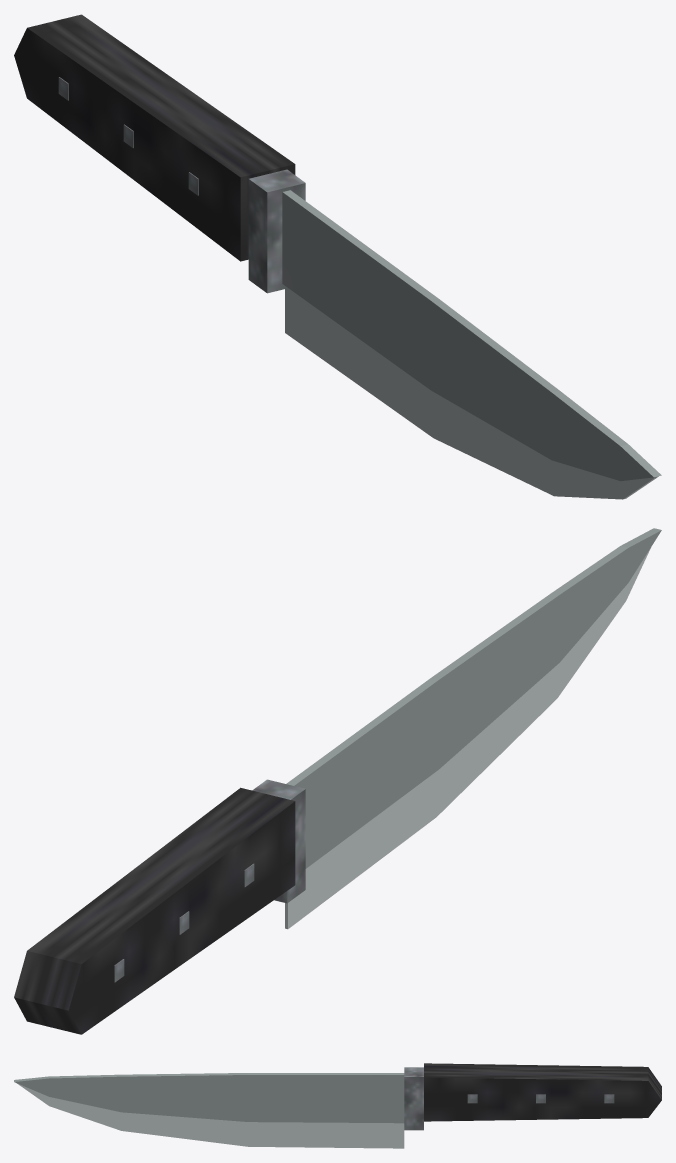
The model's file is kitchen_knife.obj.
3 renders of one model, top to bottom at view 1: azimuth 30°, elevation 25°; view 2: azimuth 150°, elevation 25°; view 3: azimuth 270°, elevation 25°, orthographic. The views are drawn at different scales.
Parts seen in each view (by area): view 1: kitchen_knife; view 2: kitchen_knife; view 3: kitchen_knife.
Part boxes in pixels (box(x1,y1,x2,y2)): kitchen_knife: box(14, 14, 661, 499); kitchen_knife: box(14, 528, 661, 1034); kitchen_knife: box(14, 1063, 661, 1148).
Size of the model in its own units: 0.0175 by 0.044 by 0.332.
Materials: 1 (1 with a texture image).
